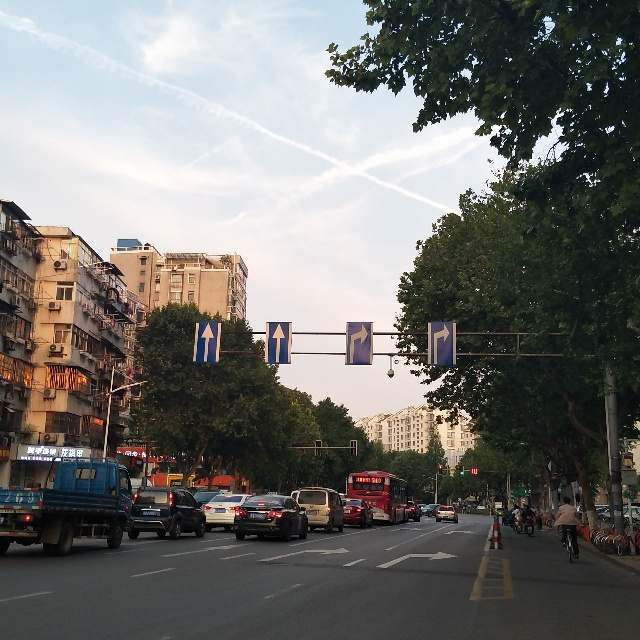right: (430, 323, 456, 368), (345, 322, 371, 365)
straight: (263, 320, 294, 363), (195, 321, 220, 362)
